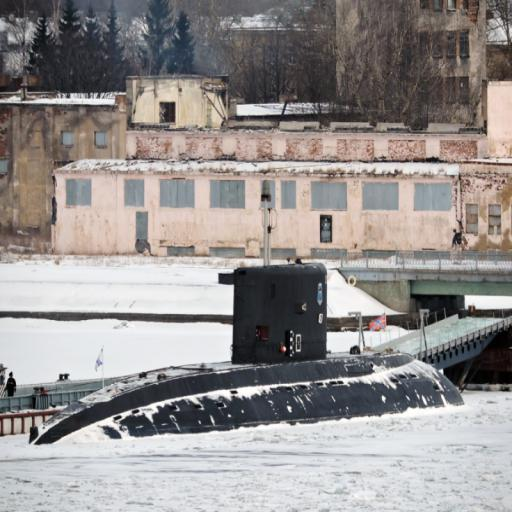submarine: (29, 264, 466, 449)
